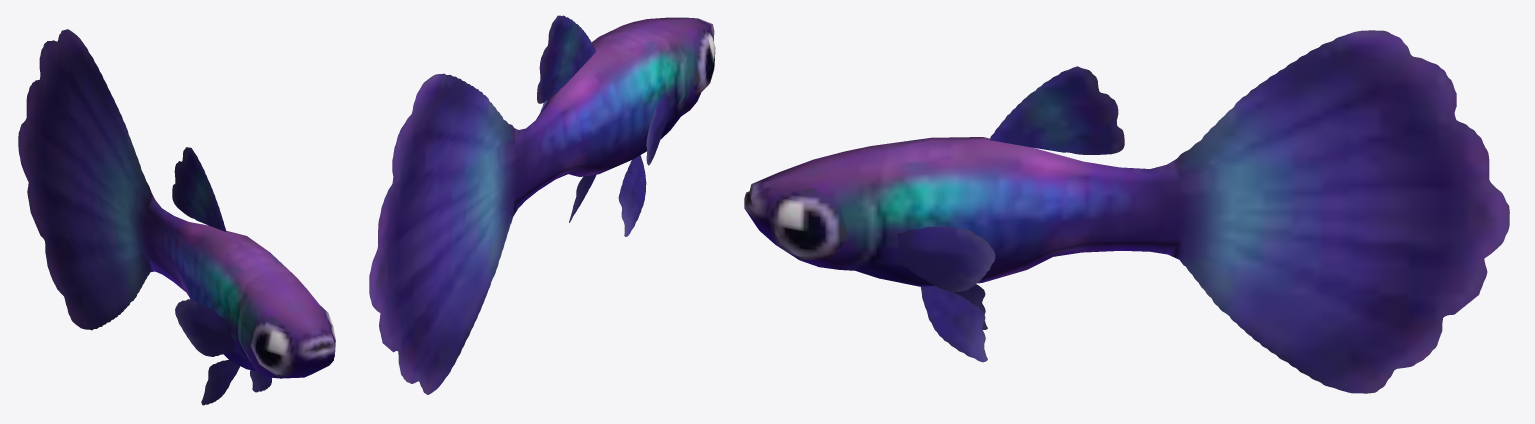
File: guppy.glb
The picture shows the model from 3 angles, left to right: view 1: azimuth 30°, elevation 25°; view 2: azimuth 150°, elevation 25°; view 3: azimuth 270°, elevation 25°; orthographic projection. The views are drawn at different scales.
Bounding box in the file's own units: 0.5638 × 1.72 × 3.06.
Materials: 1 (1 with a texture image).
